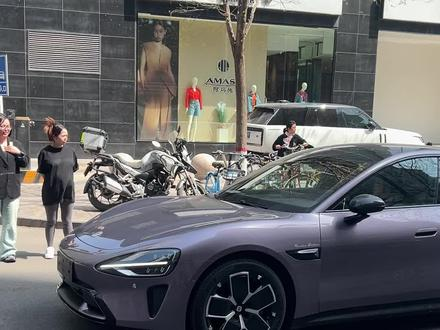su7: (59, 142, 440, 330)
